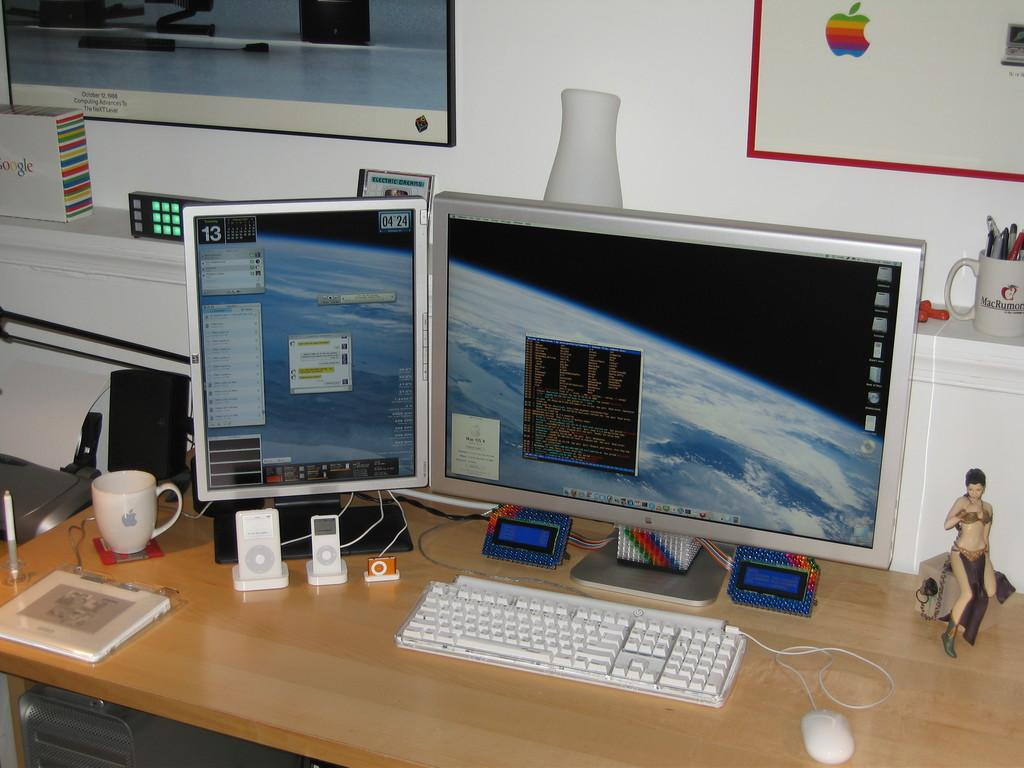Computer-keyboard: (391, 573, 744, 708)
